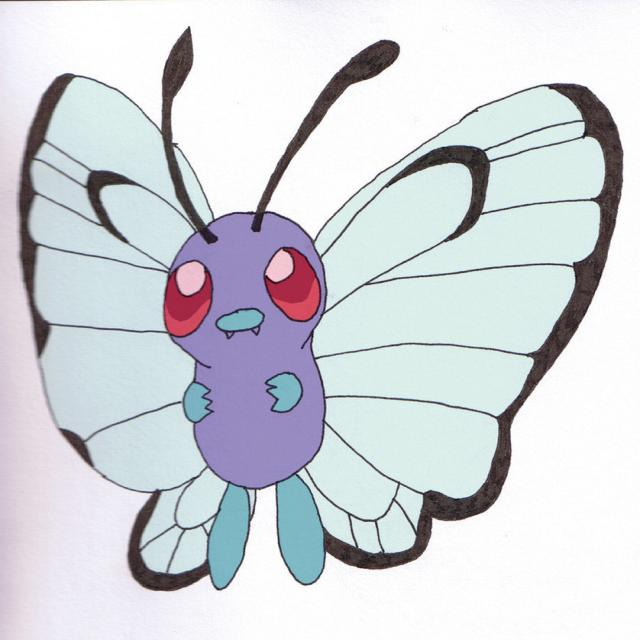Butterfree: (91, 145, 497, 592)
